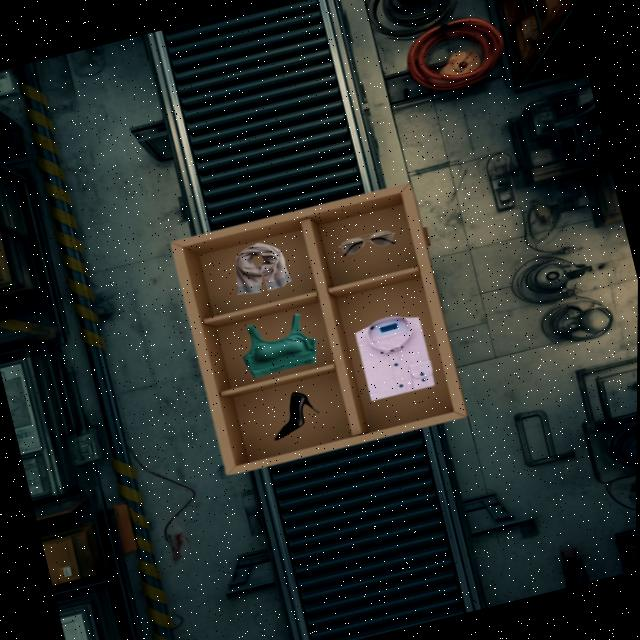heel: (275, 392, 319, 439)
scarf: (236, 243, 291, 293)
shirt: (356, 315, 434, 400)
sunglasses: (340, 229, 396, 255)
top: (243, 313, 316, 377)
